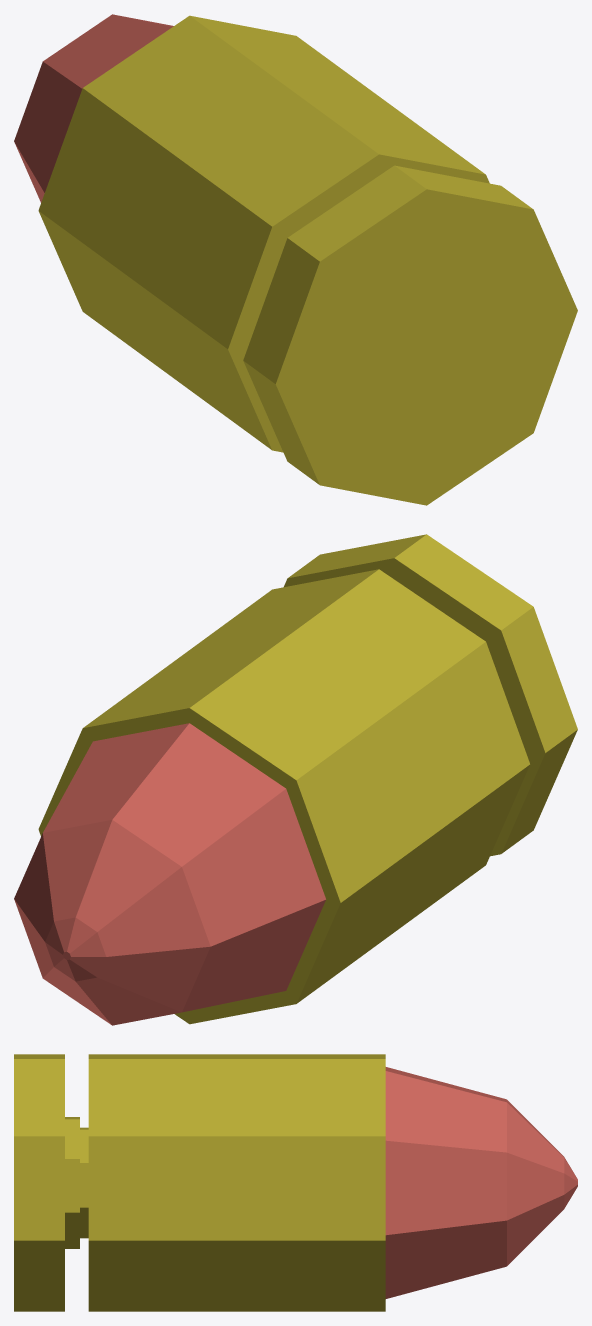
The model's file is Bullet.fbx.
The picture shows the model from 3 angles, top to bottom: view 1: azimuth 30°, elevation 25°; view 2: azimuth 150°, elevation 25°; view 3: azimuth 270°, elevation 25°; orthographic projection. The views are drawn at different scales.
Visible parts, largest first — view 1: Cylinder.003, Cylinder, Cylinder.004; view 2: Cylinder.003, Cylinder.004, Cylinder; view 3: Cylinder.003, Cylinder.004, Cylinder, Cylinder.001, Cylinder.002.
Part boxes in pixels (x1,y1,x2,y2): Cylinder.003: [38, 15, 489, 452]; Cylinder: [243, 165, 577, 505]; Cylinder.004: [14, 14, 173, 202]; Cylinder.003: [38, 569, 530, 1024]; Cylinder.004: [14, 723, 325, 1025]; Cylinder: [284, 534, 577, 856]; Cylinder.003: [88, 1054, 385, 1311]; Cylinder.004: [385, 1067, 577, 1298]; Cylinder: [14, 1054, 64, 1311]; Cylinder.001: [65, 1117, 79, 1248]; Cylinder.002: [80, 1127, 88, 1238].
Bounding box in the file's own units: 200 × 200 × 412.
